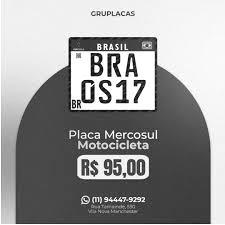placa_mercosul: (70, 38, 157, 113)
